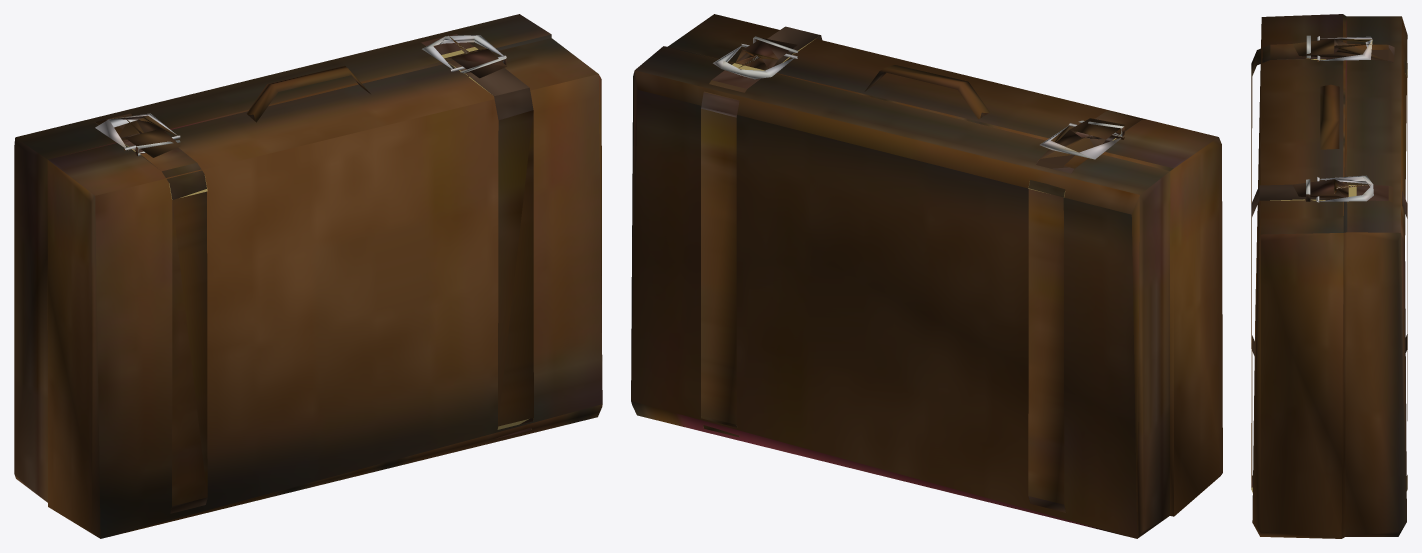
The model's file is SuitCaseWatlas.fbx.
The picture shows the model from 3 angles, left to right: view 1: azimuth 30°, elevation 25°; view 2: azimuth 150°, elevation 25°; view 3: azimuth 270°, elevation 25°; orthographic projection. The views are drawn at different scales.
Parts seen in each view (by area): view 1: Suitcase; view 2: Suitcase; view 3: Suitcase.
Part boxes in pixels (bbox=[...]): Suitcase: bbox=[14, 14, 602, 538]; Suitcase: bbox=[631, 14, 1222, 538]; Suitcase: bbox=[1251, 14, 1407, 538].
Bounding box in the file's own units: 100 × 70 × 30.
Materials: 1 (1 with a texture image).
